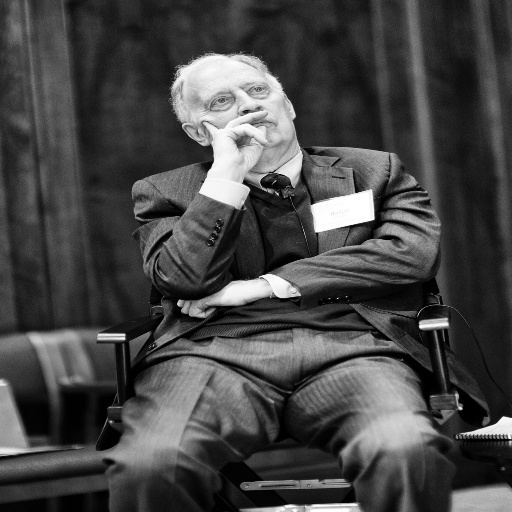hand: (201, 109, 273, 173), (171, 276, 271, 319)
